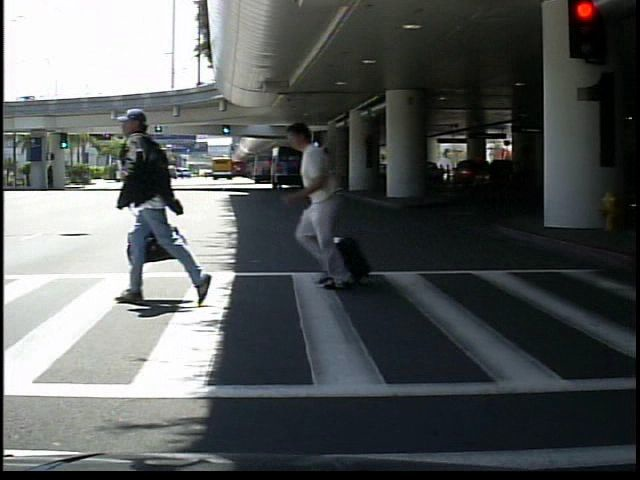person: (118, 114, 205, 310), (298, 114, 367, 292)
